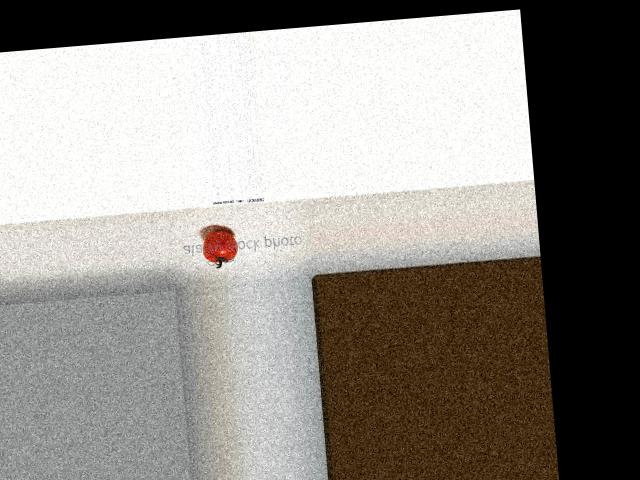tomato: (201, 229, 239, 263)
